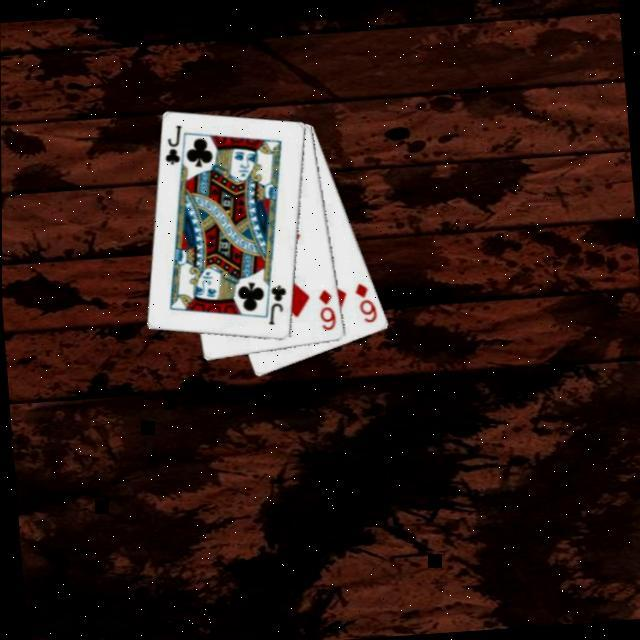6D: (352, 280, 382, 328), (316, 286, 341, 335)
JC: (264, 281, 292, 329), (160, 122, 188, 170)
